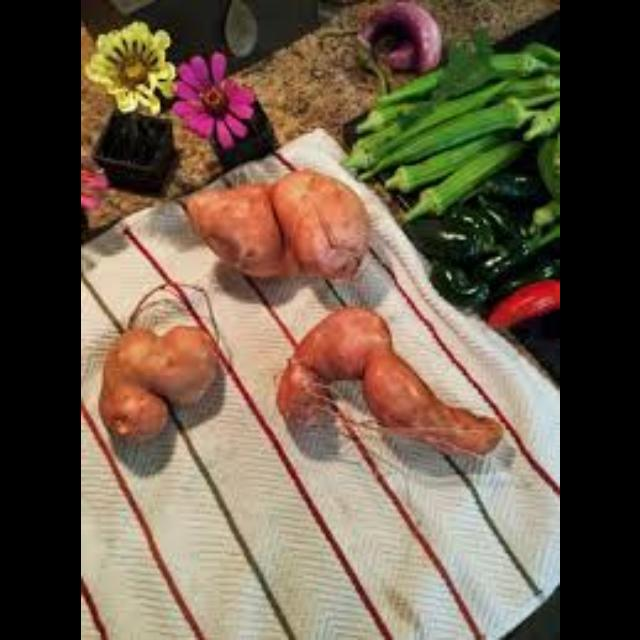Damaged potato: (272, 308, 500, 468), (182, 169, 374, 287), (80, 321, 242, 451)
